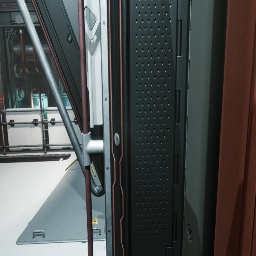FireAlarm ,: (0, 94, 3, 103)
SafetySwitchPanel ,: (84, 0, 103, 128)
